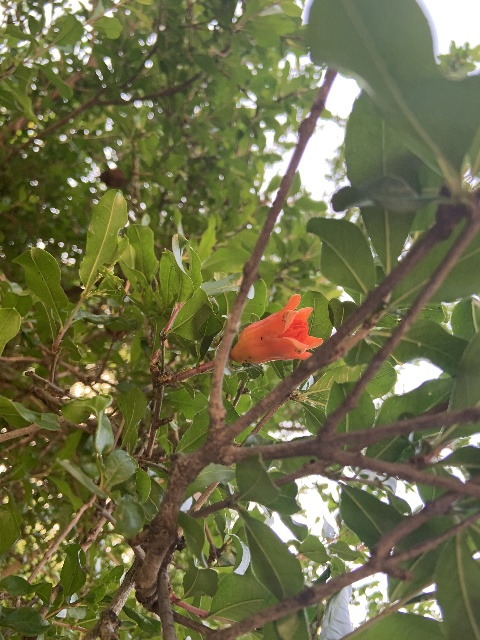flower: (231, 293, 323, 363)
